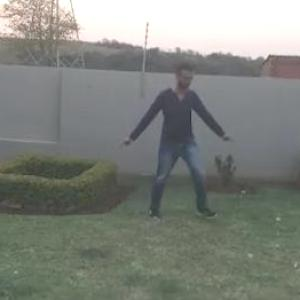land: (114, 50, 236, 228)
